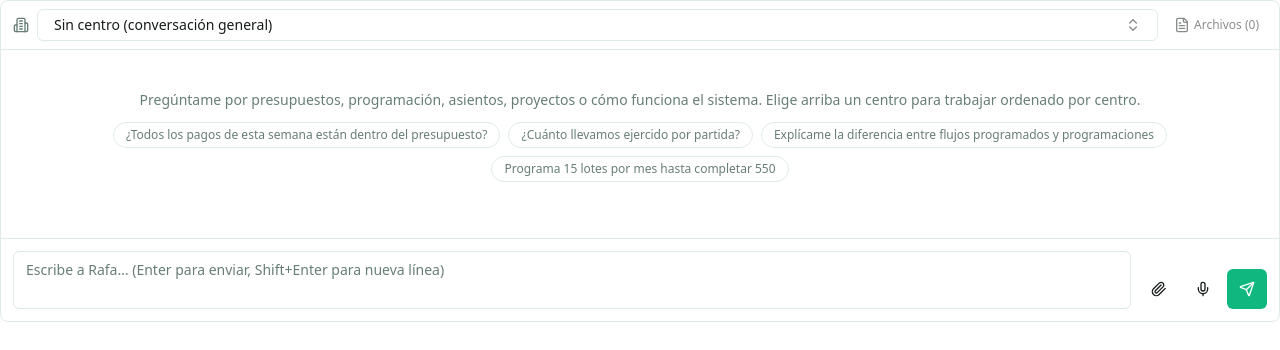
Test: respuestas rápidas e hipervínculos › convierte la elección de empresa en botones que envían el id y muestra enlaces internos
Later steps or results of the test are not shown.
Replace the text in the text box with placeholder "Escribe a Rafa" with "¿Pagos de la semana?" at (572,280), box [13, 251, 1131, 309]
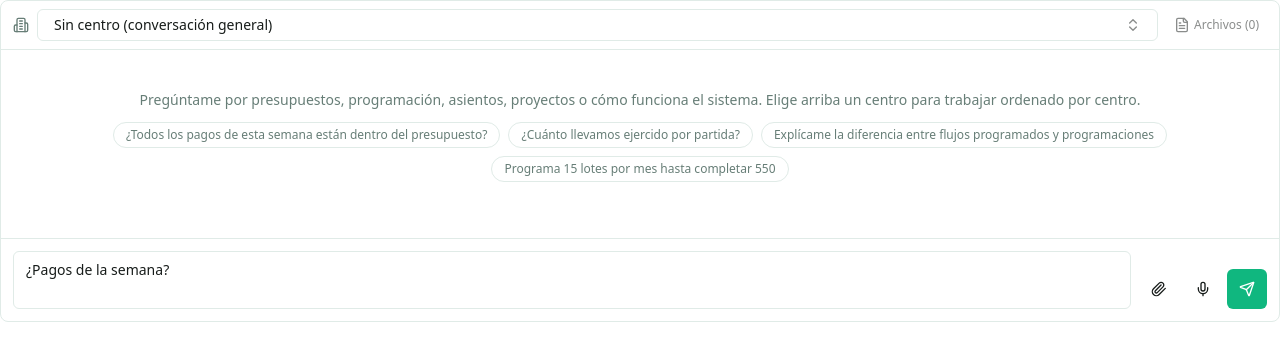
Click the button named "Enviar" at (1247,289), box [1227, 269, 1267, 309]
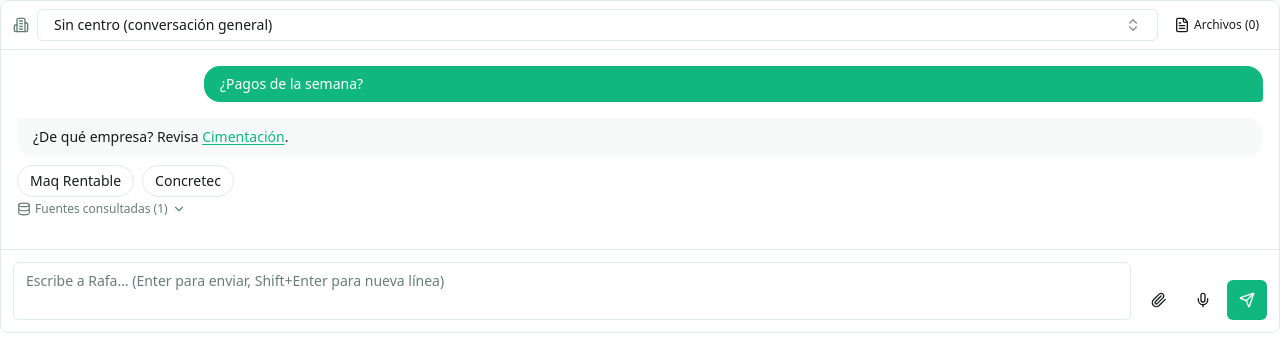
Result: the button "Maq Rentable" is shown at [17, 165, 134, 197]
